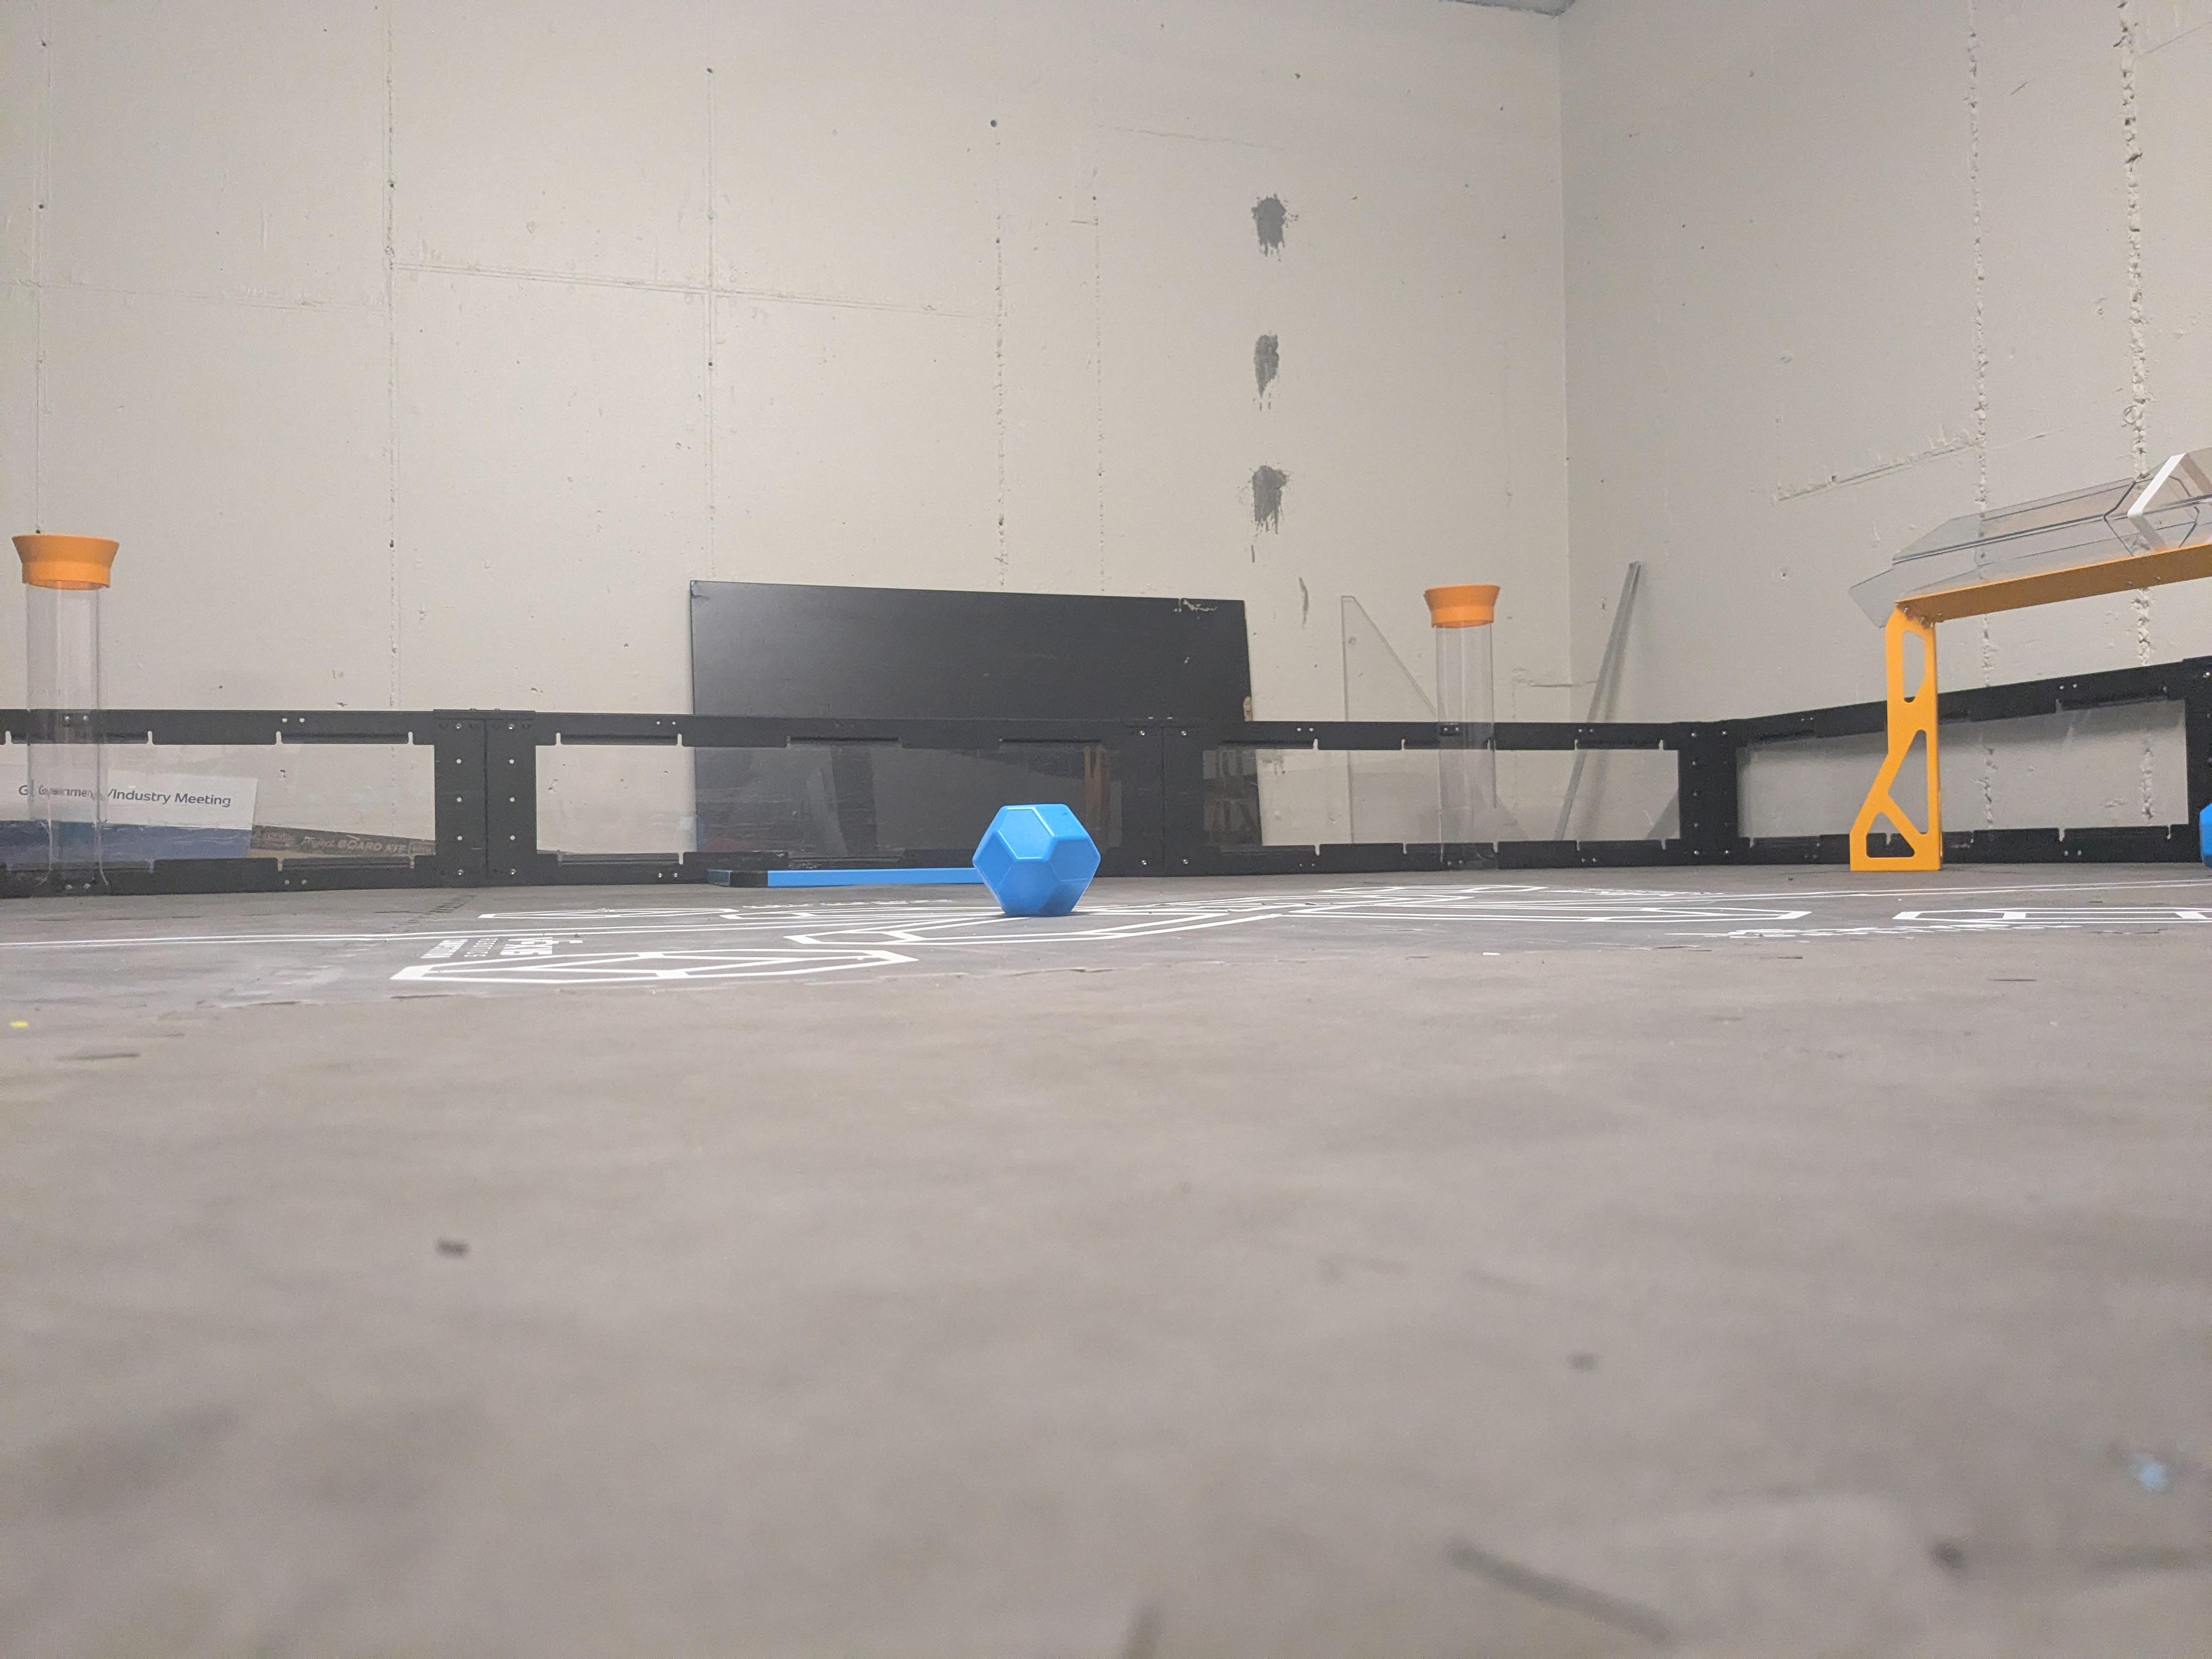Vex-Pieces-BLUE: (977, 803, 1099, 915)
